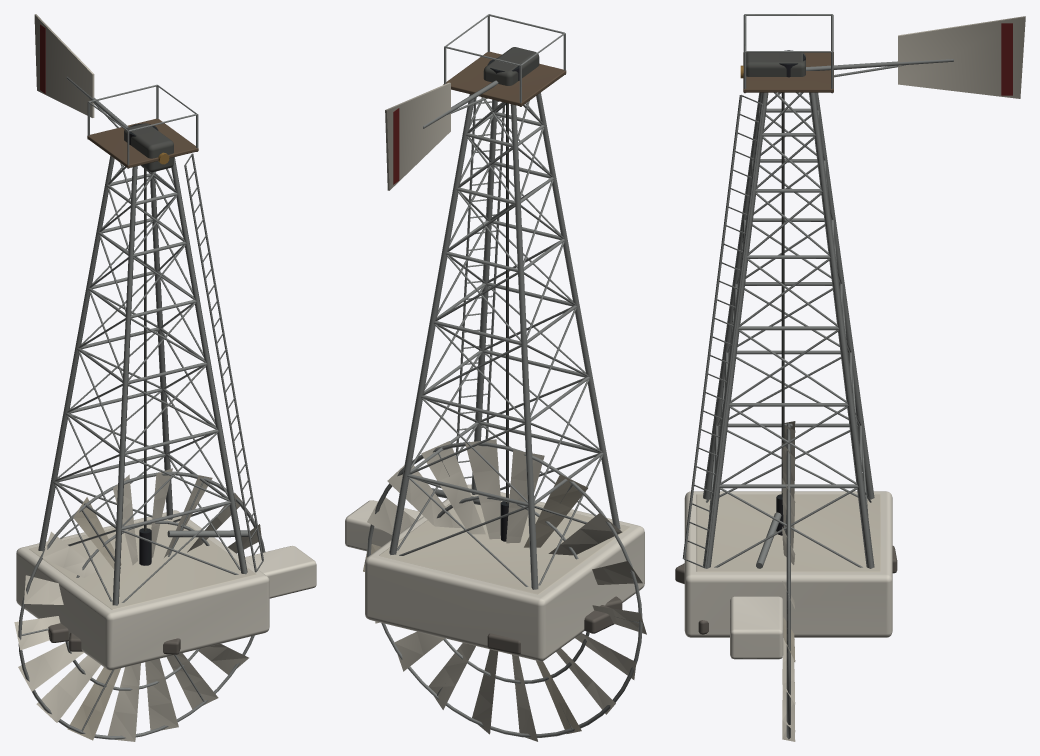
Rendered from wind-pump.glb.
3 renders of one model, left to right at view 1: azimuth 30°, elevation 25°; view 2: azimuth 150°, elevation 25°; view 3: azimuth 270°, elevation 25°, orthographic. The views are drawn at different scales.
Parts seen in each view (by area): view 1: pump-tower, pump-rotor; view 2: pump-tower, pump-rotor; view 3: pump-tower, pump-rotor.
Boxes of the visible parts, x1,y1,x2,y2 form: pump-tower: [16, 14, 316, 670]; pump-rotor: [14, 468, 265, 741]; pump-tower: [345, 14, 644, 661]; pump-rotor: [363, 439, 646, 741]; pump-tower: [675, 14, 1025, 659]; pump-rotor: [782, 421, 795, 741].
Bounding box in the file's own units: 6.55 × 14.7 × 6.58.
